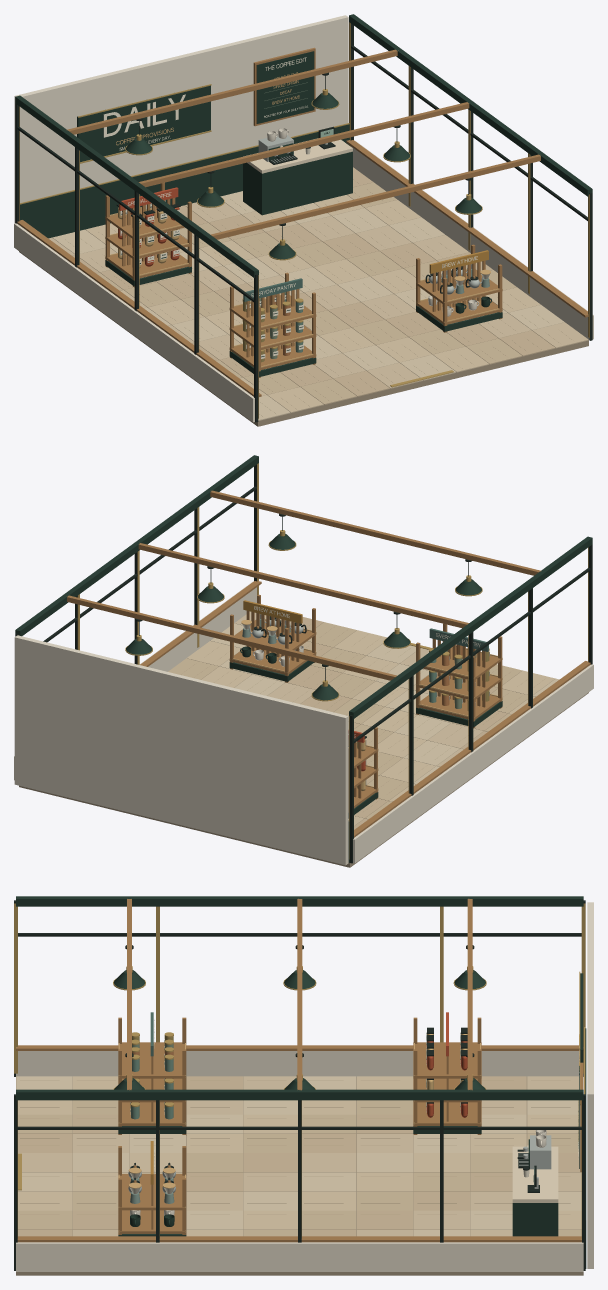
File: current.glb
3 views of the same model, one above another, from view 1: azimuth 30°, elevation 25°; view 2: azimuth 150°, elevation 25°; view 3: azimuth 270°, elevation 25° (orthographic). The views are drawn at different scales.
Parts seen in each view (by area): view 1: Oak_floorboard (×56), Rear_wall, Side_plinth (×2), Ceiling_beam (×3), Oak_shelf (×8), Rear_wainscot, Roof_beam (×2), Fixed_checkout, Brand_panel, Window_sill (×2), Menu_board, Window_frame (×5) (+8 smaller); view 2: Rear_wall, Oak_floorboard (×21), Side_plinth (×2), Ceiling_beam (×3), Roof_beam (×2), Oak_shelf (×5), Window_frame (×5), Window_sill (×2), Window_transom (×2), Display_base (×2), Floor_8x10m, Category_header; view 3: Oak_floorboard (×67), Side_plinth (×2), Roof_beam (×2), Oak_shelf (×8), Window_sill (×2), Window_transom (×2), Ceiling_beam (×3), Floor_8x10m, Window_frame (×5), Rear_wall, Brass_frame_inlay (×4), Stone_countertop (+2 smaller).
Part boxes in pixels (bbox=[...]): Oak_floorboard (×56): bbox=[52, 182, 588, 412]; Rear_wall: bbox=[14, 15, 348, 223]; Side_plinth (×2): bbox=[14, 141, 593, 422]; Ceiling_beam (×3): bbox=[66, 49, 540, 239]; Oak_shelf (×8): bbox=[105, 206, 502, 370]; Rear_wainscot: bbox=[20, 124, 349, 238]; Roof_beam (×2): bbox=[15, 14, 592, 277]; Fixed_checkout: bbox=[243, 151, 352, 215]; Brand_panel: bbox=[77, 85, 210, 162]; Window_sill (×2): bbox=[17, 140, 588, 396]; Menu_board: bbox=[256, 51, 314, 123]; Window_frame (×5): bbox=[15, 103, 258, 422]; Rear_wall: bbox=[14, 635, 348, 865]; Oak_floorboard (×21): bbox=[168, 622, 555, 800]; Side_plinth (×2): bbox=[14, 582, 593, 863]; Ceiling_beam (×3): bbox=[67, 490, 541, 680]; Roof_beam (×2): bbox=[15, 455, 592, 718]; Oak_shelf (×5): bbox=[229, 620, 502, 720]; Window_frame (×5): bbox=[349, 544, 592, 863]; Window_sill (×2): bbox=[140, 581, 590, 837]; Window_transom (×2): bbox=[43, 486, 590, 743]; Display_base (×2): bbox=[229, 660, 502, 727]; Floor_8x10m: bbox=[19, 692, 588, 867]; Category_header: bbox=[243, 600, 302, 623]; Oak_floorboard (×67): bbox=[16, 1076, 583, 1229]; Side_plinth (×2): bbox=[16, 1051, 583, 1271]; Roof_beam (×2): bbox=[16, 896, 583, 1100]; Oak_shelf (×8): bbox=[118, 1042, 481, 1233]; Window_sill (×2): bbox=[16, 1045, 583, 1242]; Window_transom (×2): bbox=[17, 933, 581, 1129]; Ceiling_beam (×3): bbox=[127, 898, 472, 1090]; Floor_8x10m: bbox=[16, 1077, 583, 1275]; Window_frame (×5): bbox=[14, 1094, 585, 1270]; Rear_wall: bbox=[587, 902, 593, 1268]; Brass_frame_inlay (×4): bbox=[14, 903, 585, 1073]; Stone_countertop: bbox=[512, 1146, 558, 1202].
Size of the model in its own units: 8.24 by 3.61 by 10.21.
